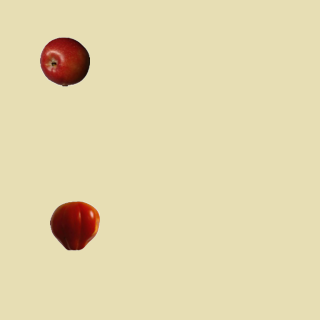Apple Braeburn: (39, 36, 89, 86)
Tomato 1: (49, 200, 99, 250)
